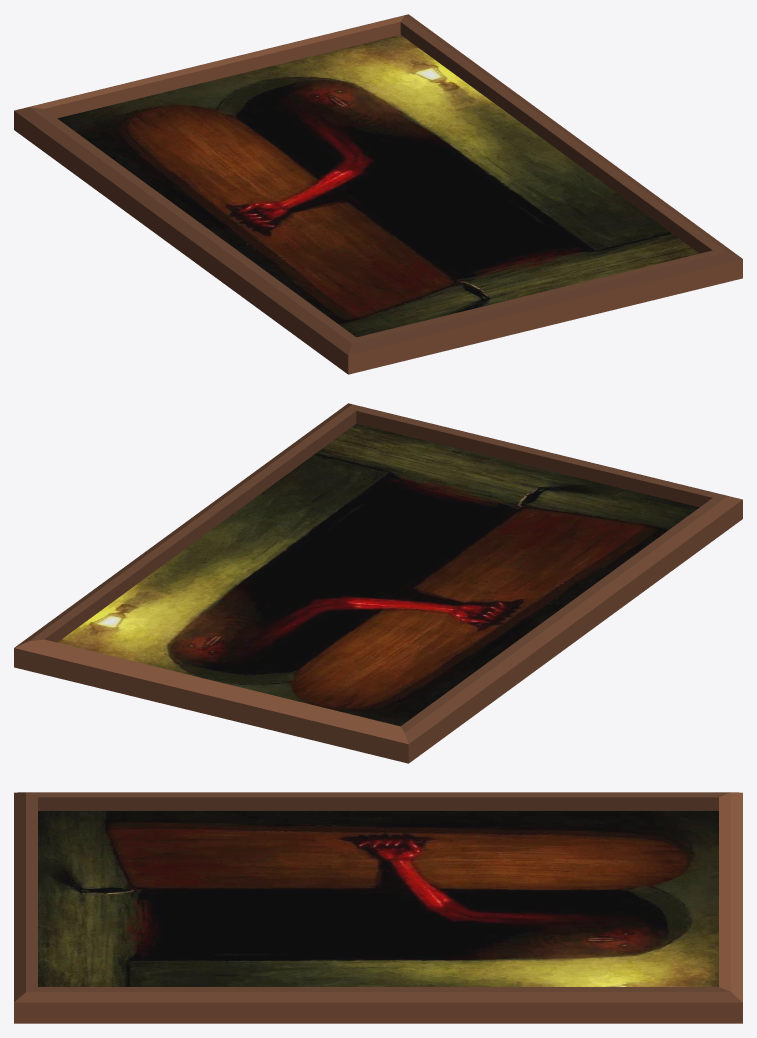
Rendered from Wall Painting .fbx.
3 views of the same model, one above another, from view 1: azimuth 30°, elevation 25°; view 2: azimuth 150°, elevation 25°; view 3: azimuth 270°, elevation 25° (orthographic). The views are drawn at different scales.
Visible parts, largest first — view 1: Plane; view 2: Plane; view 3: Plane.
Boxes of the visible parts, bbox=[...] form: Plane: bbox=[14, 14, 742, 374]; Plane: bbox=[14, 403, 742, 763]; Plane: bbox=[14, 792, 742, 1023].
Size of the model in its own units: 200 by 11.88 by 293.
